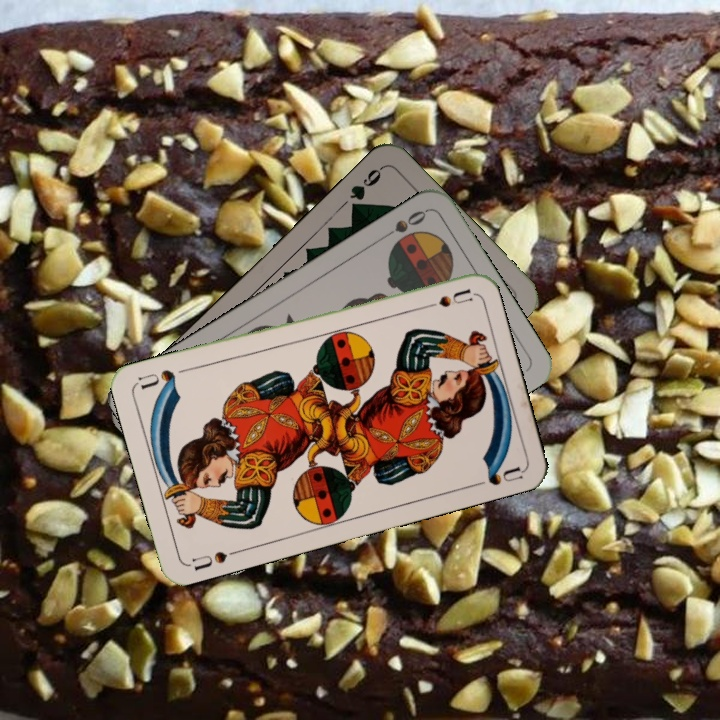G9: (345, 162, 386, 215)
SO: (376, 206, 429, 243)
SU: (415, 284, 474, 313), (185, 545, 243, 574)
